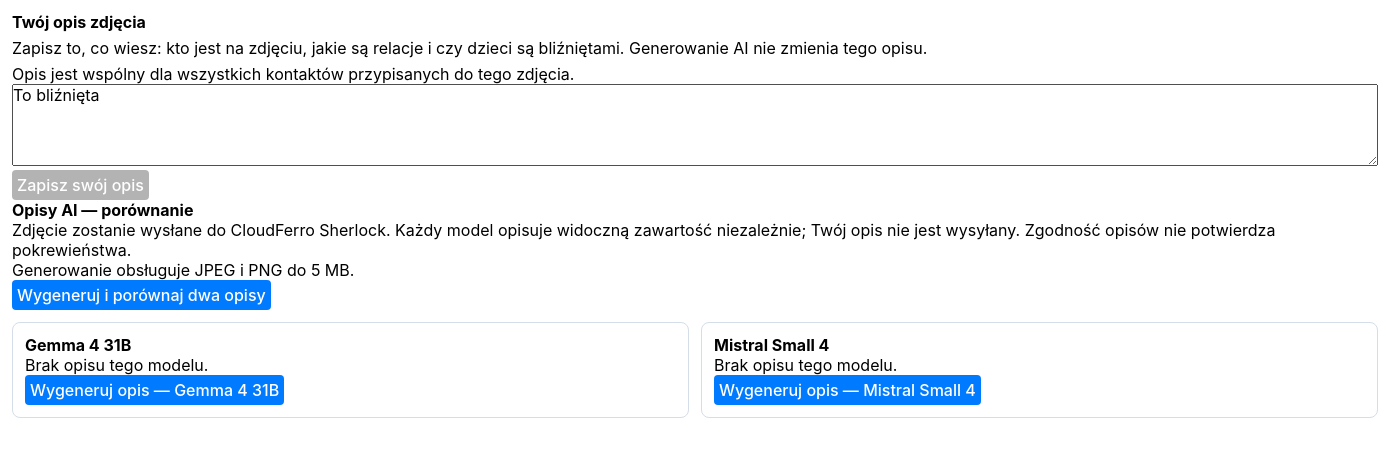
Test: contact photo descriptions › uses photo identity and preserves the draft while refreshing a conflict
The width and height of the screenshot is (1390, 455).
Replace the text in the text box labelled "Twój opis zdjęcia" with "Szkic" at (695, 125), box [12,84,1378,166]
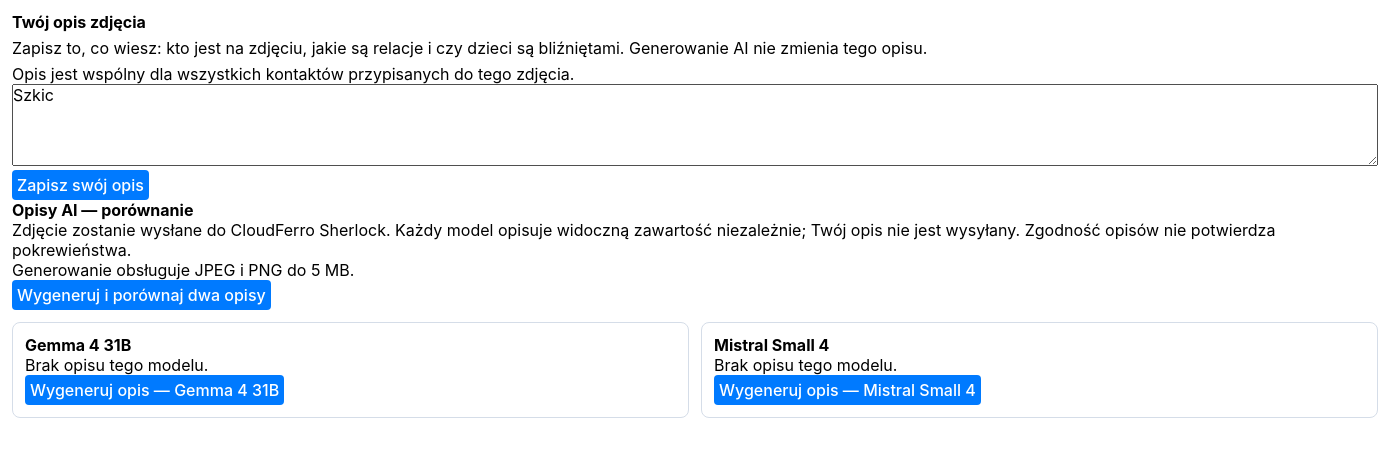
Click the button "Zapisz swój opis" at (80, 185), box [12,170,149,200]
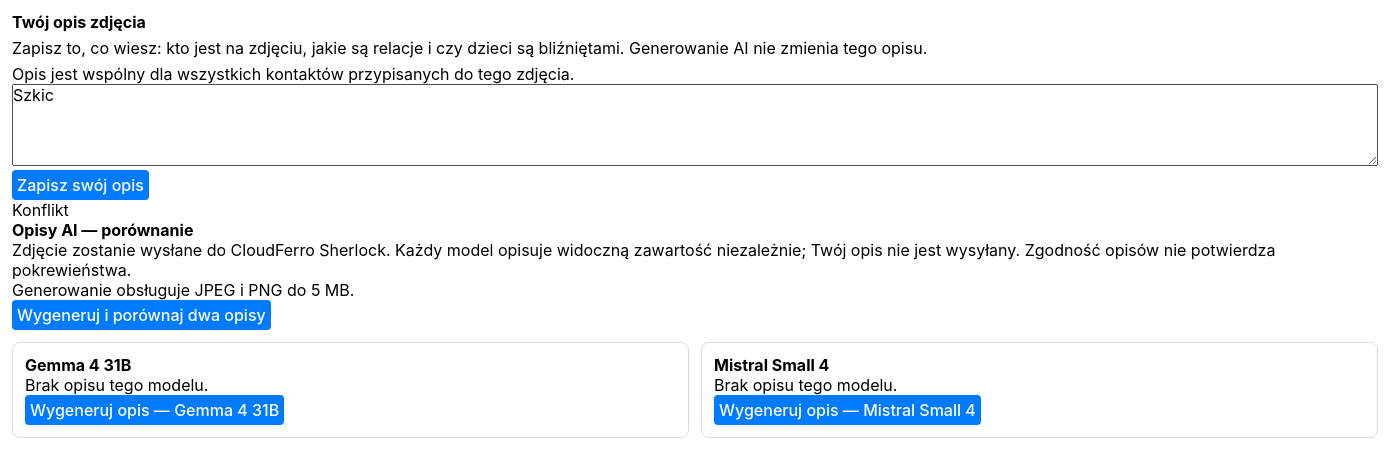
expect the text "Konflikt" is shown: met, box [12,200,69,220]
